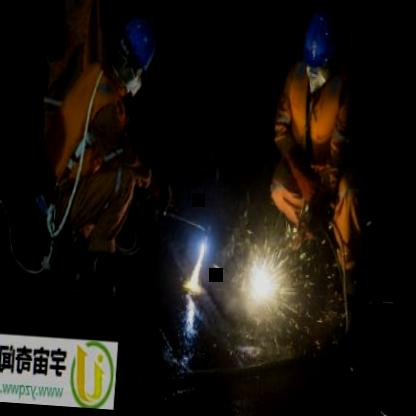helmet: (296, 6, 348, 91), (112, 8, 160, 93)
